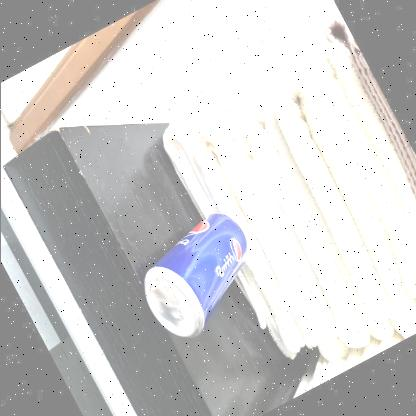Can: (144, 212, 246, 336)
